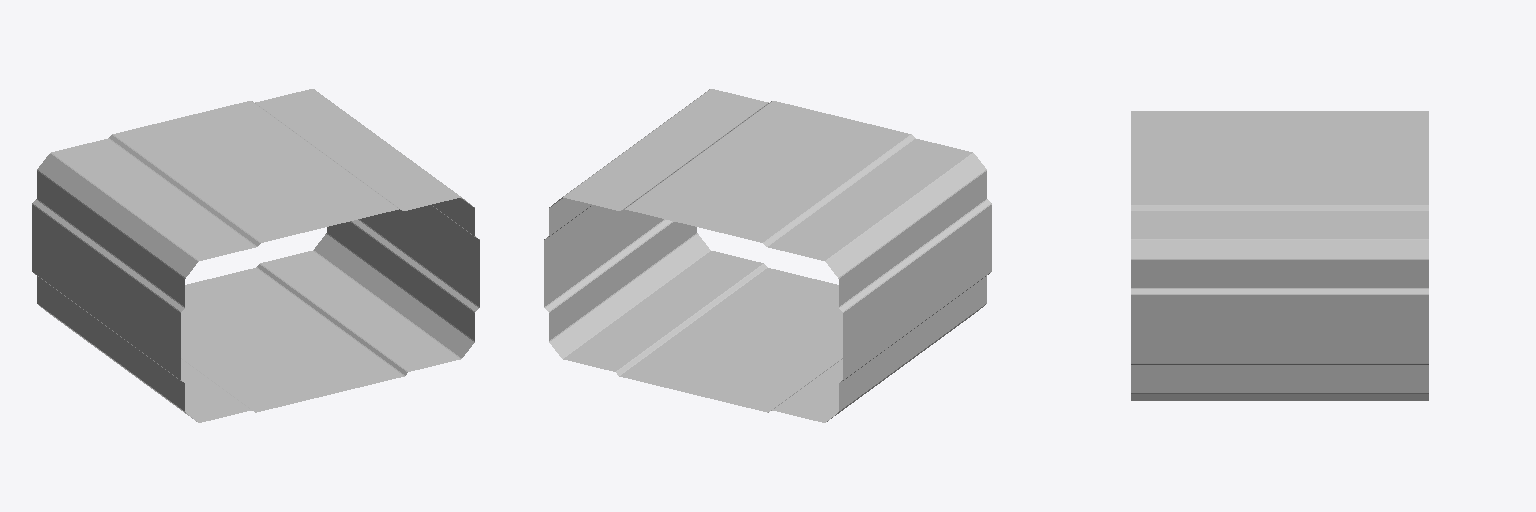
Rendered from CorridorConectionOut.obj.
3 views of the same model, side by side, from view 1: azimuth 30°, elevation 25°; view 2: azimuth 150°, elevation 25°; view 3: azimuth 270°, elevation 25° (orthographic).
Parts seen in each view (by area): view 1: CorridorConectionOut_Cube; view 2: CorridorConectionOut_Cube; view 3: CorridorConectionOut_Cube.
Part boxes in pixels (x1,y1,x2,y2): CorridorConectionOut_Cube: (32, 89, 479, 422); CorridorConectionOut_Cube: (544, 89, 991, 422); CorridorConectionOut_Cube: (1131, 111, 1428, 400).
Size of the model in its own units: 18.58 by 10 by 16.